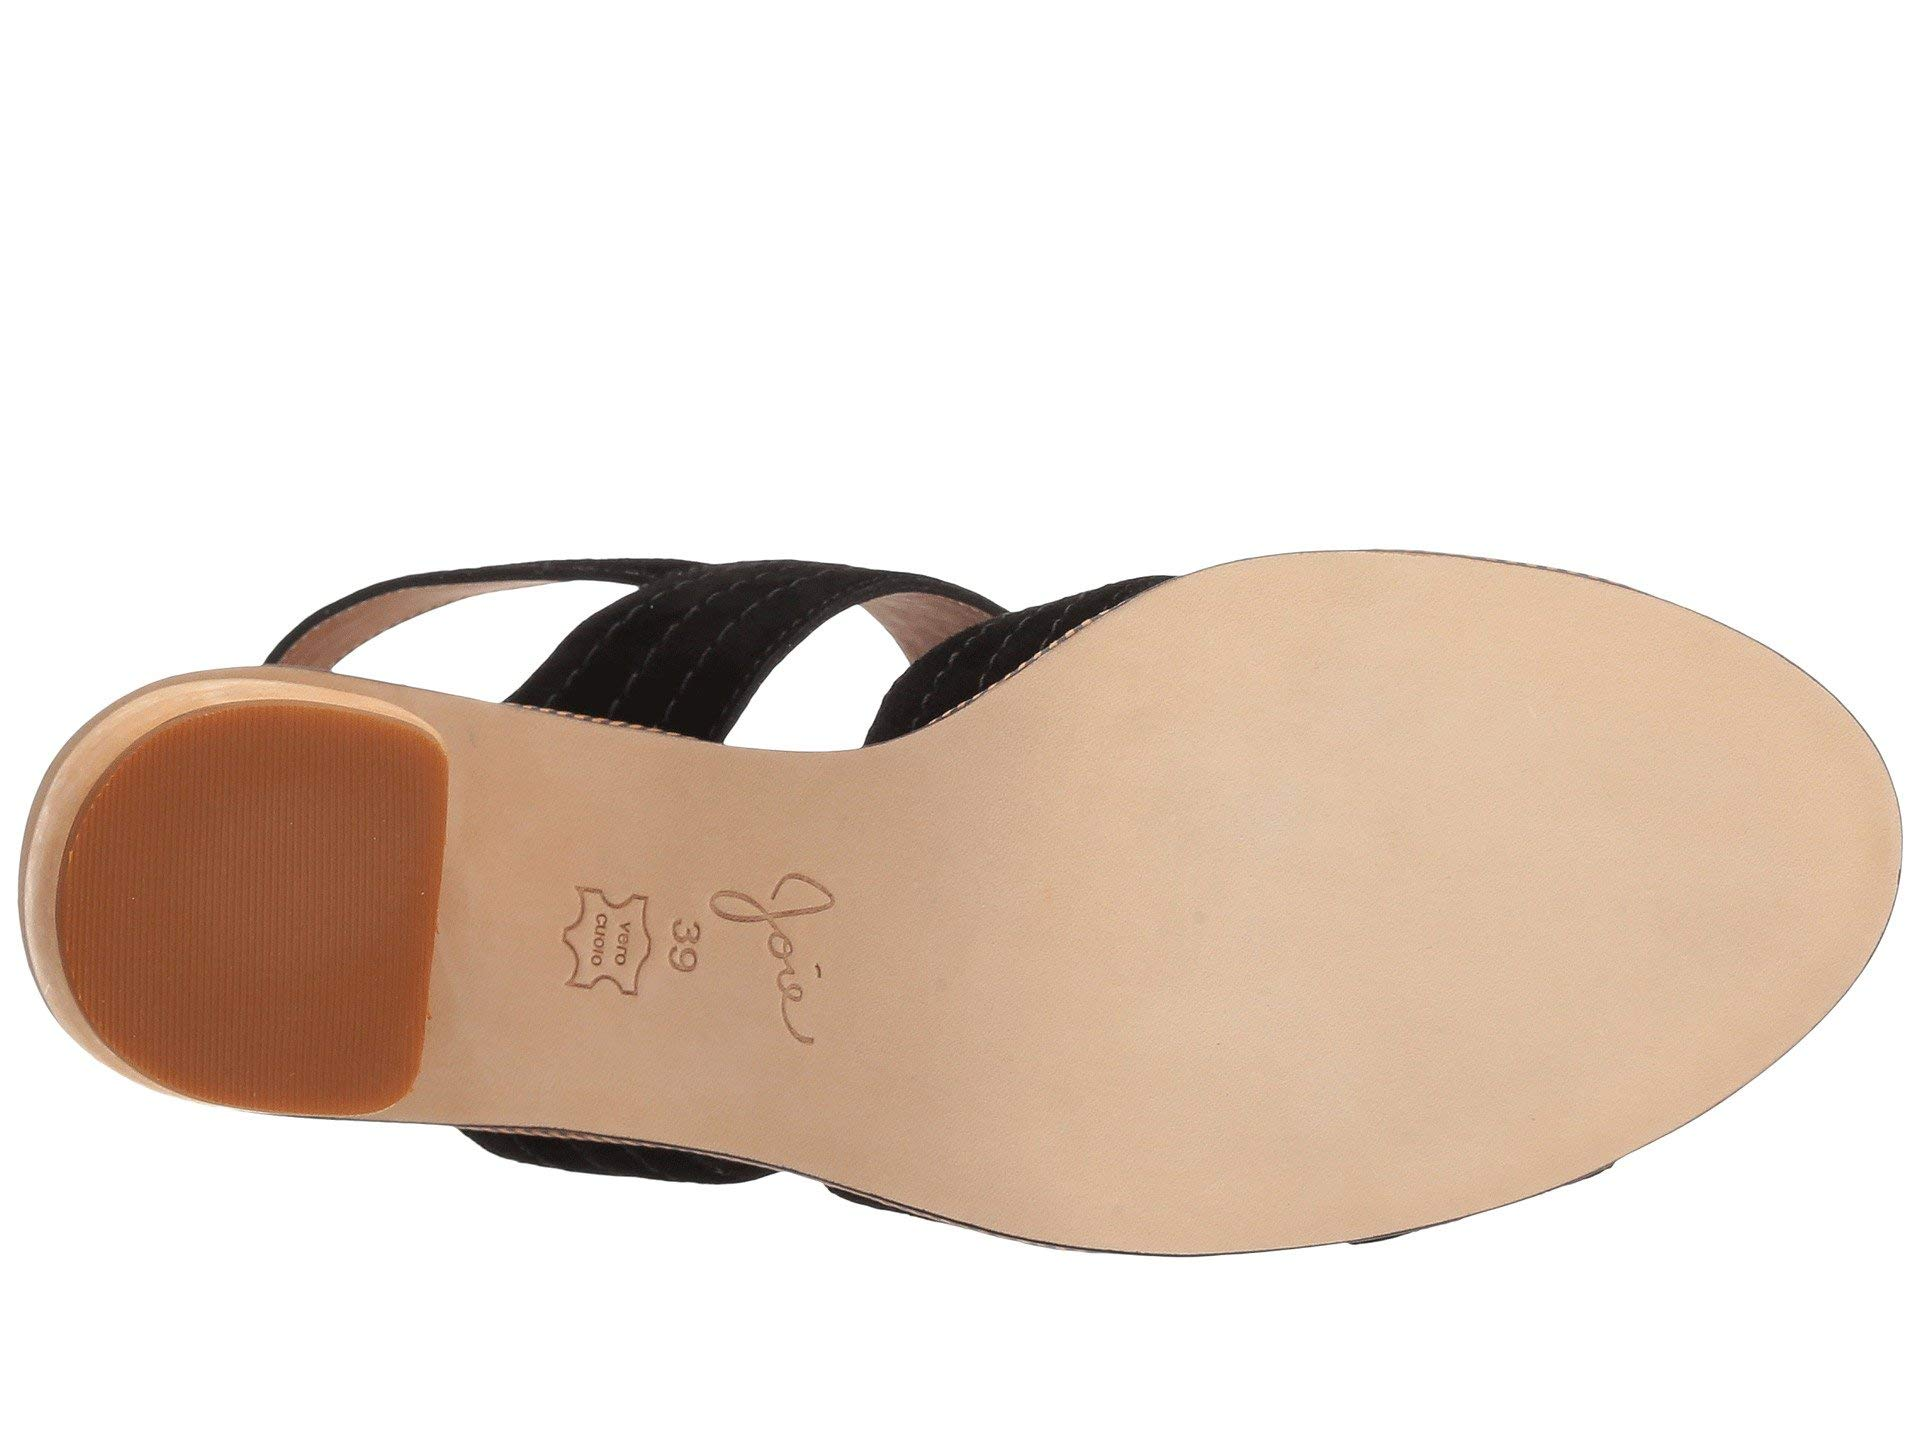line: (141, 731, 382, 1047)
polygon: (517, 779, 903, 1098)
text: (517, 779, 903, 1098)
